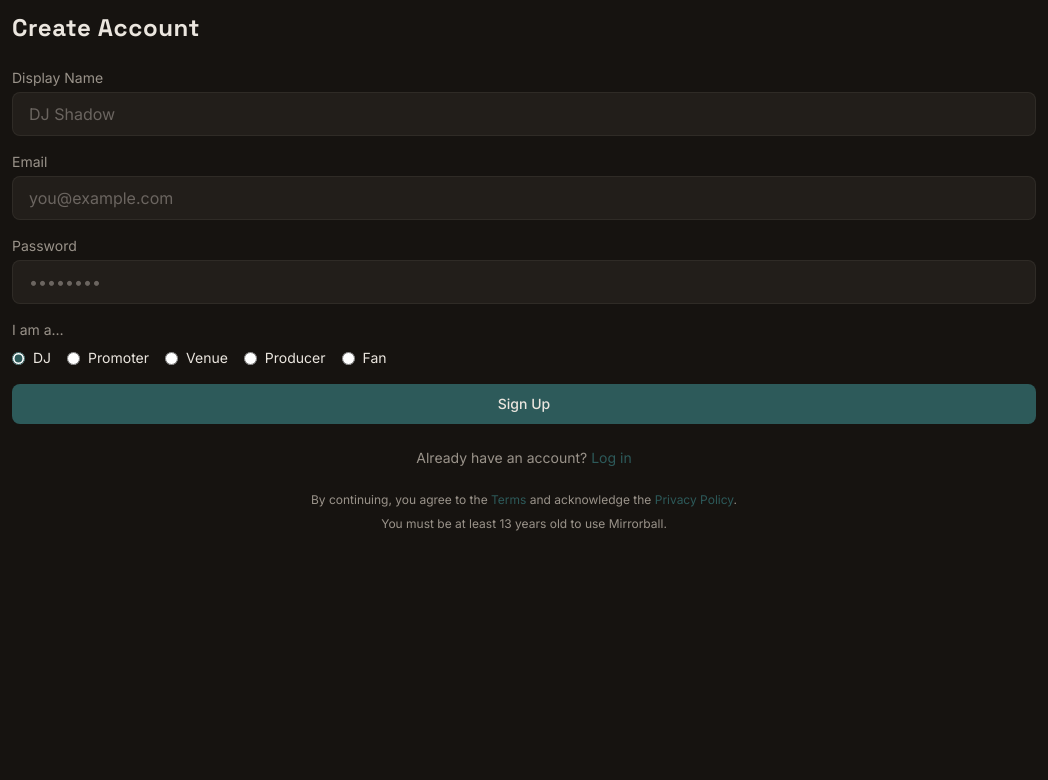
Scenario: SignupPage › shows an error when auth signup fails
In the field labelled "Display Name": (524, 114) 12,92 -> 1036,136, type "Test"
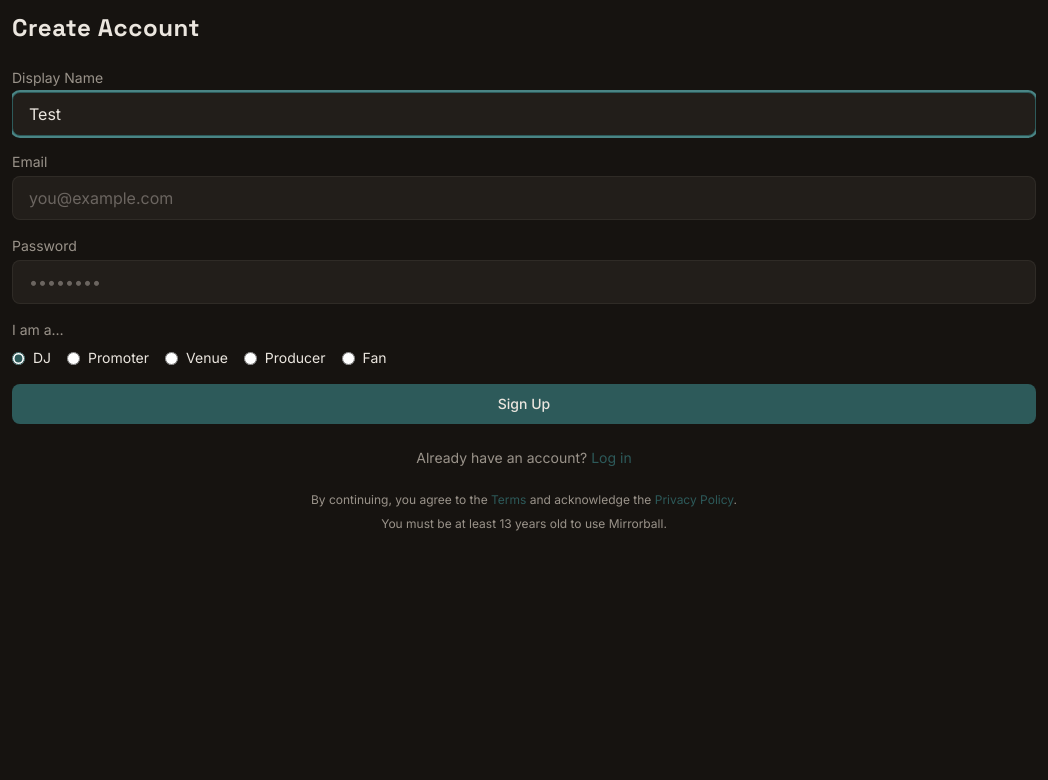
In the field labelled "Email": (524, 198) 12,176 -> 1036,220, type "dup@example.com"
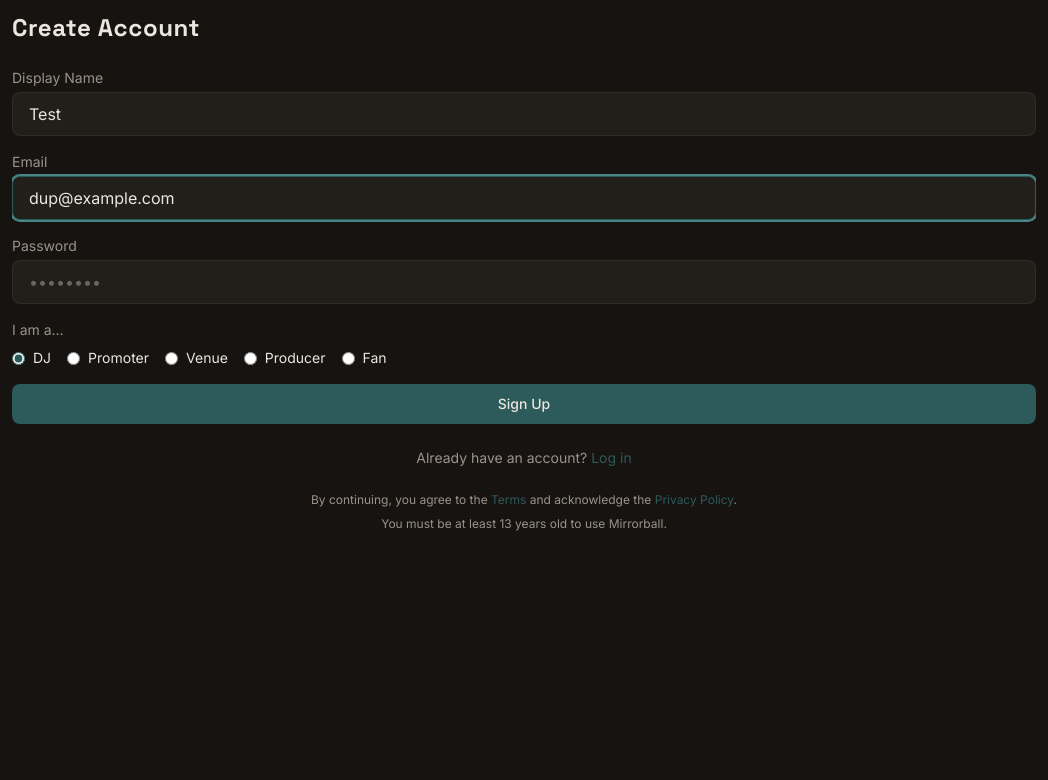
In the password field labelled "Password": (524, 282) 12,260 -> 1036,304, type "password123"
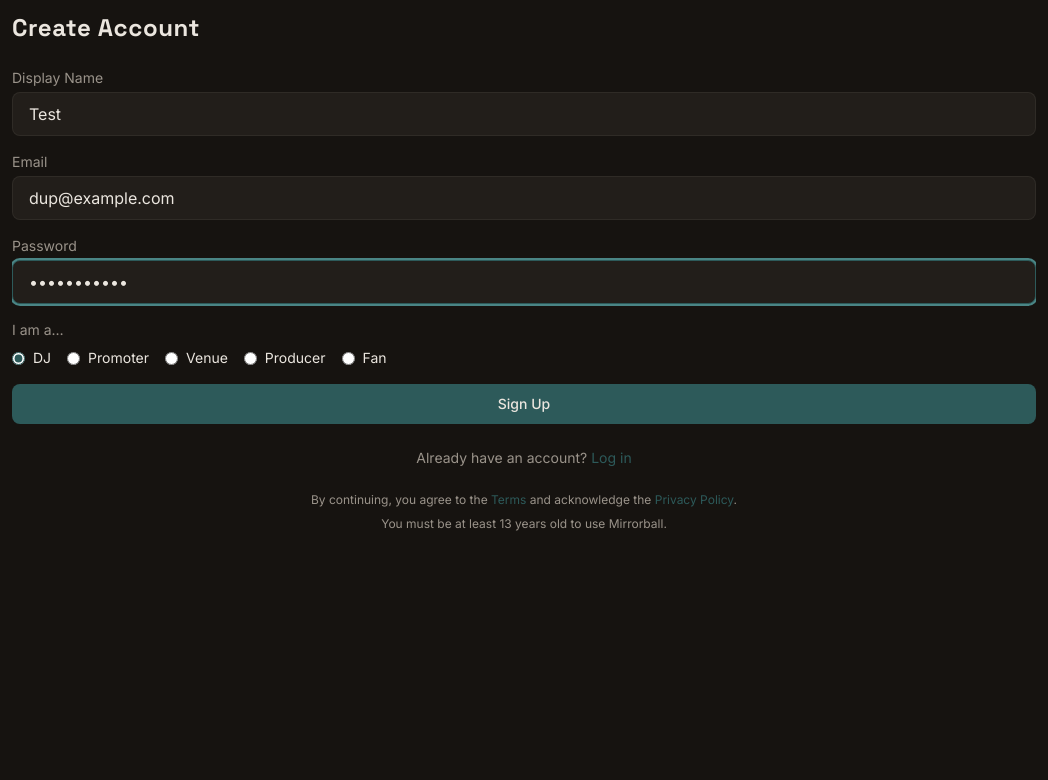
Click the button "Sign Up": (524, 404) 12,384 -> 1036,424
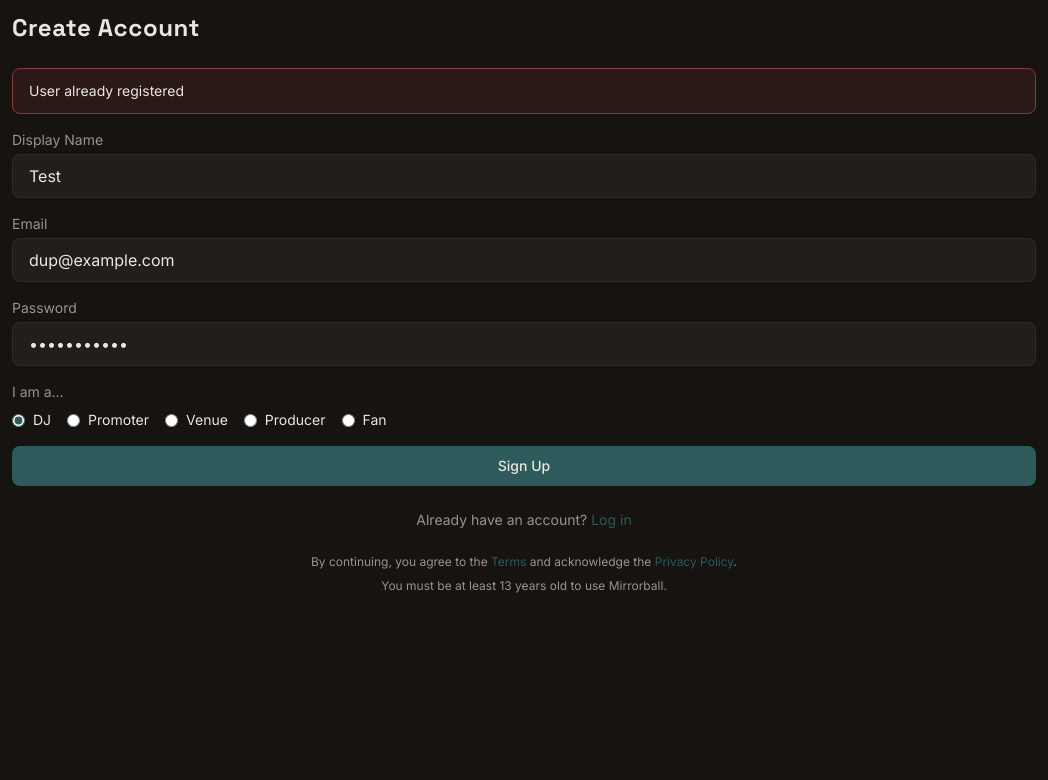
Now the message reads "User already registered", box 29,82 -> 184,99
